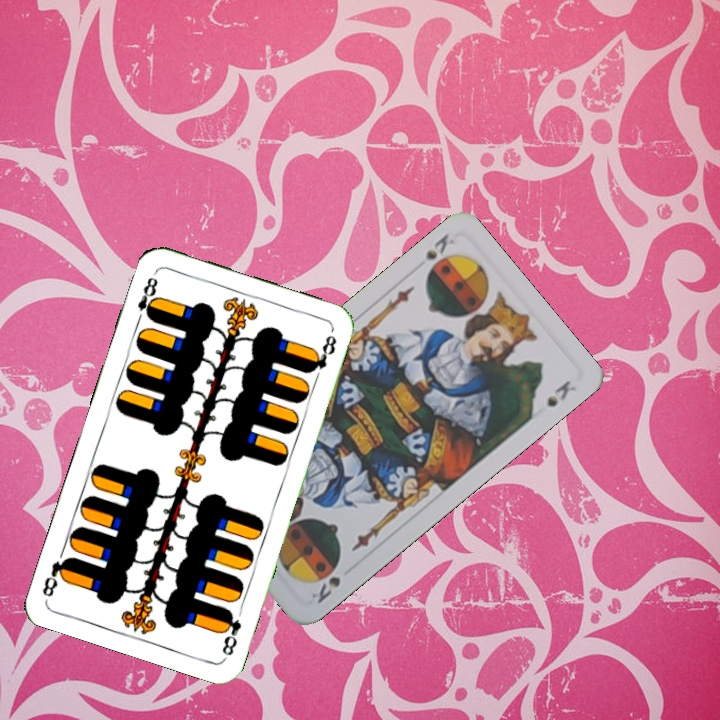E8: (132, 273, 161, 326), (217, 605, 244, 658)
SK: (420, 229, 458, 279), (307, 572, 343, 607)
